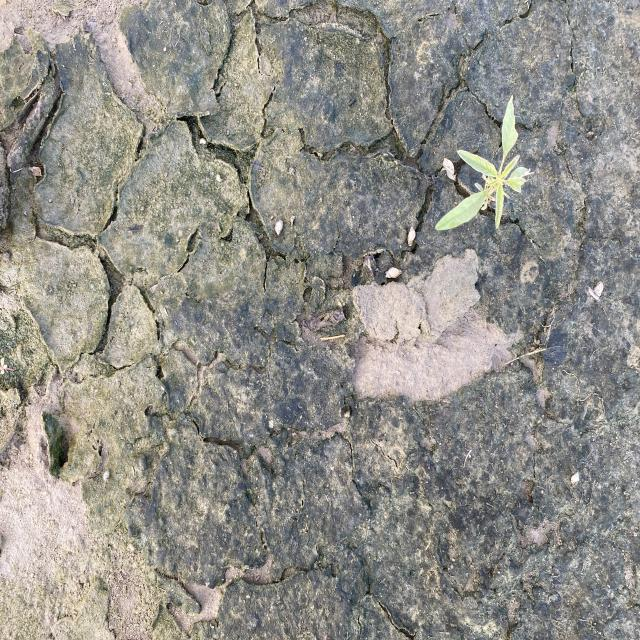Waterhemp: (434, 94, 536, 234)
